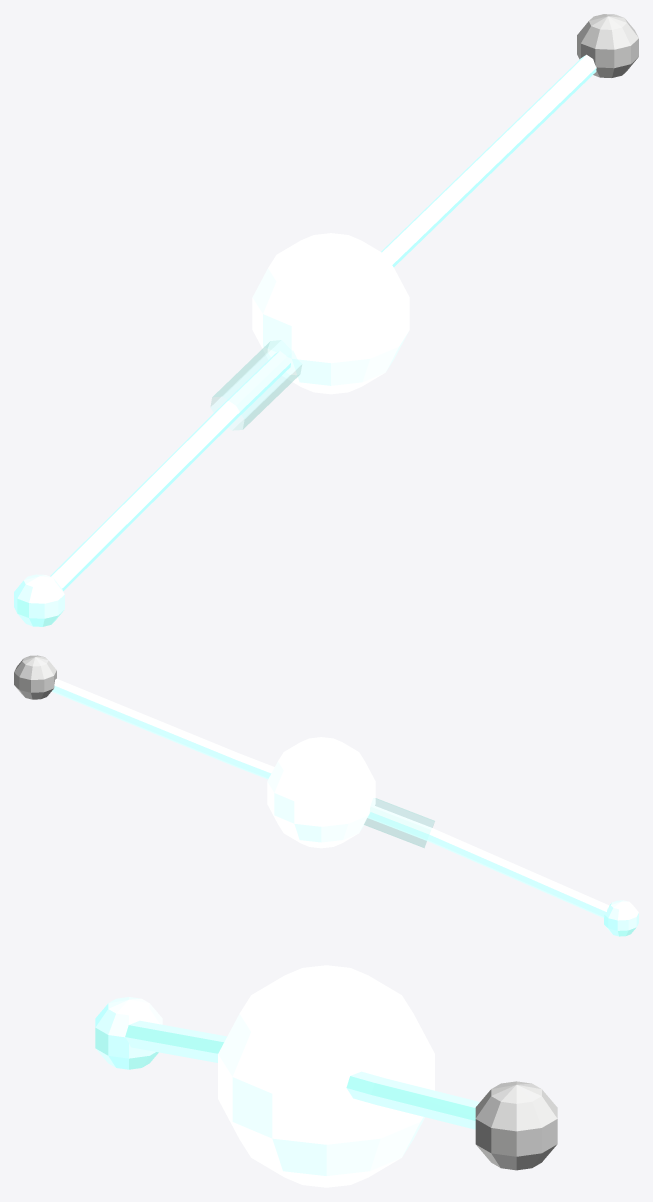
The model's file is action-pulse.glb.
3 renders of one model, top to bottom at view 1: azimuth 30°, elevation 25°; view 2: azimuth 150°, elevation 25°; view 3: azimuth 270°, elevation 25°, orthographic. The views are drawn at different scales.
Visible parts, largest first — view 1: Action_Pulse, Action_Rail, Action_Trail, Action_Target, Action_Origin; view 2: Action_Pulse, Action_Rail, Action_Trail, Action_Target, Action_Origin; view 3: Action_Pulse, Action_Rail, Action_Target, Action_Origin.
Part boxes in pixels (x1,y1,x2,y2): Action_Pulse: (252, 233, 409, 394); Action_Rail: (50, 54, 596, 590); Action_Trail: (211, 340, 301, 430); Action_Target: (577, 14, 638, 77); Action_Origin: (14, 574, 64, 626); Action_Pulse: (267, 737, 375, 848); Action_Rail: (51, 678, 609, 918); Action_Trail: (364, 798, 434, 847); Action_Target: (14, 655, 56, 699); Action_Origin: (604, 900, 638, 936); Action_Pulse: (218, 965, 434, 1187); Action_Rail: (125, 1020, 479, 1129); Action_Target: (475, 1081, 557, 1170); Action_Origin: (95, 997, 162, 1069).
Size of the model in its own units: 2.93 by 1.23 by 1.12.
